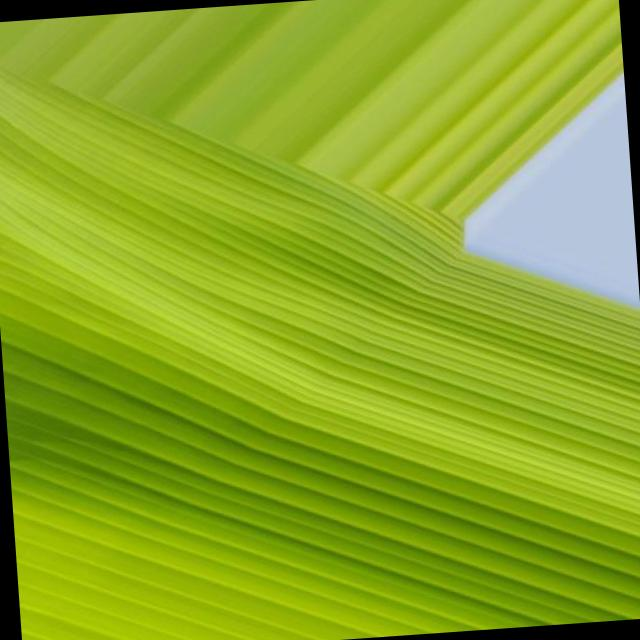Banana_Healthy: (98, 174, 526, 624)
